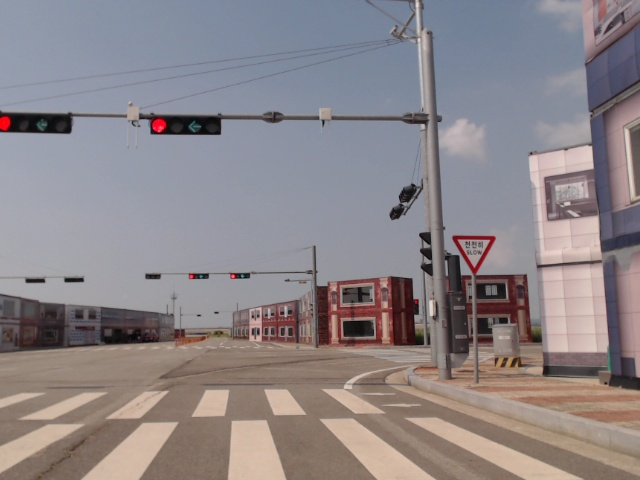left_green_4: (0, 111, 72, 135), (153, 116, 223, 137), (188, 272, 209, 280), (230, 273, 250, 279)
